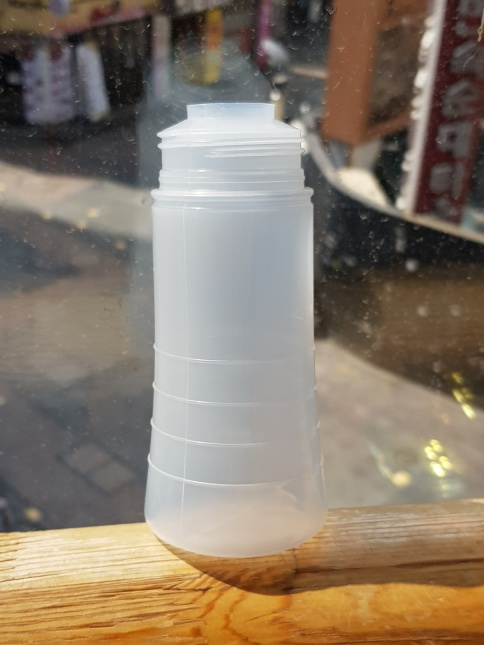Plastic: (141, 98, 331, 561)
